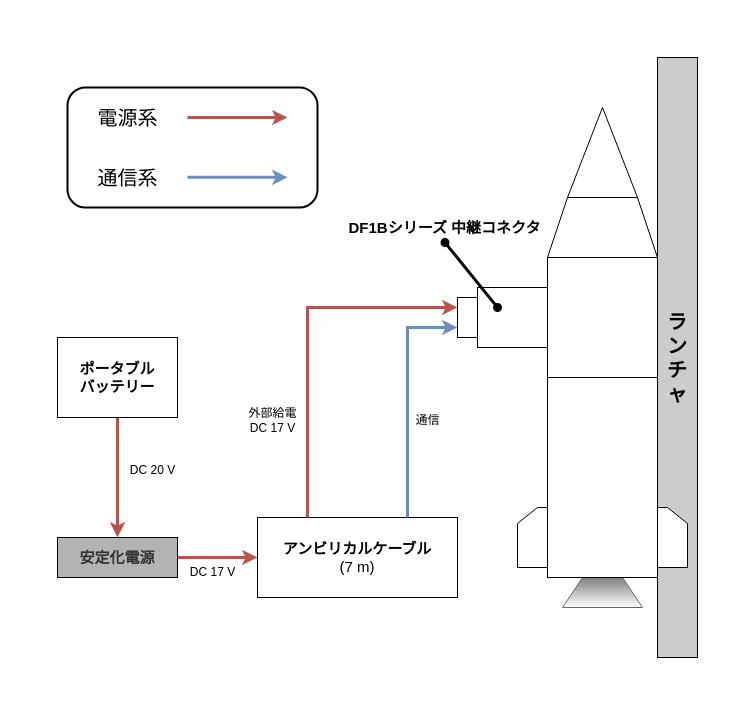
This 754x714 diagram has some shape labels left out. The shapes that lost their labels are listed below. From the top down, each one's centre as x and y in pixels, then its label:
At point 602,317: "搭載計器".
At point 602,477: "機体".
